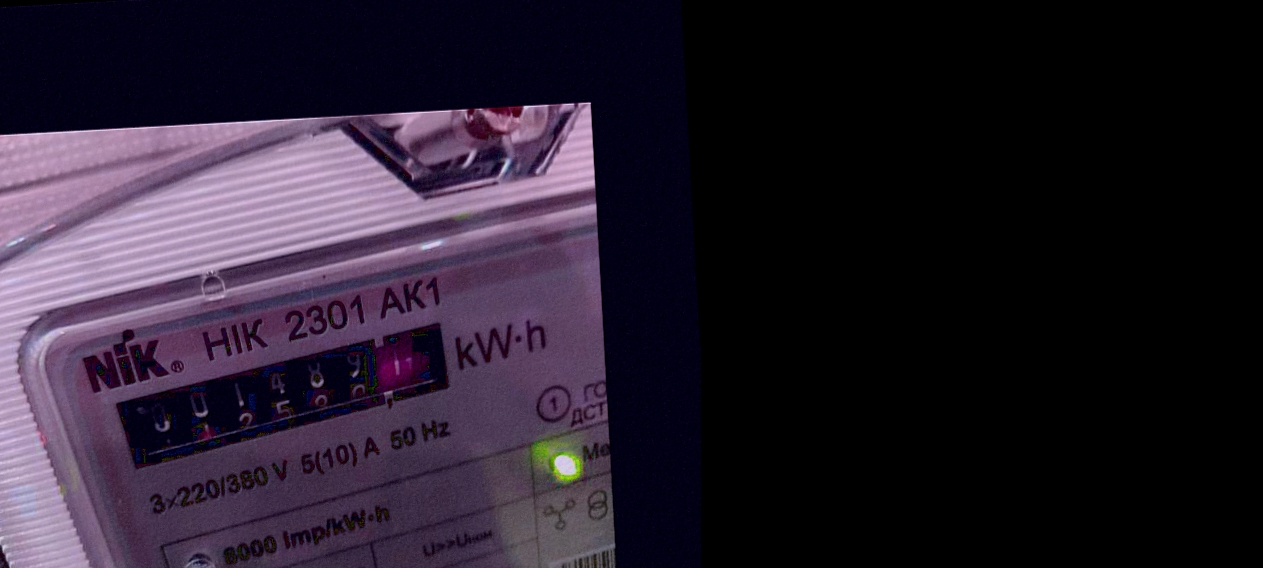0: (184, 383, 212, 421), (147, 399, 173, 436)
1: (385, 341, 406, 380), (228, 377, 250, 409)
4: (266, 365, 289, 397)
8: (305, 355, 328, 392)
9: (344, 347, 365, 380)
screen: (100, 311, 483, 482)
